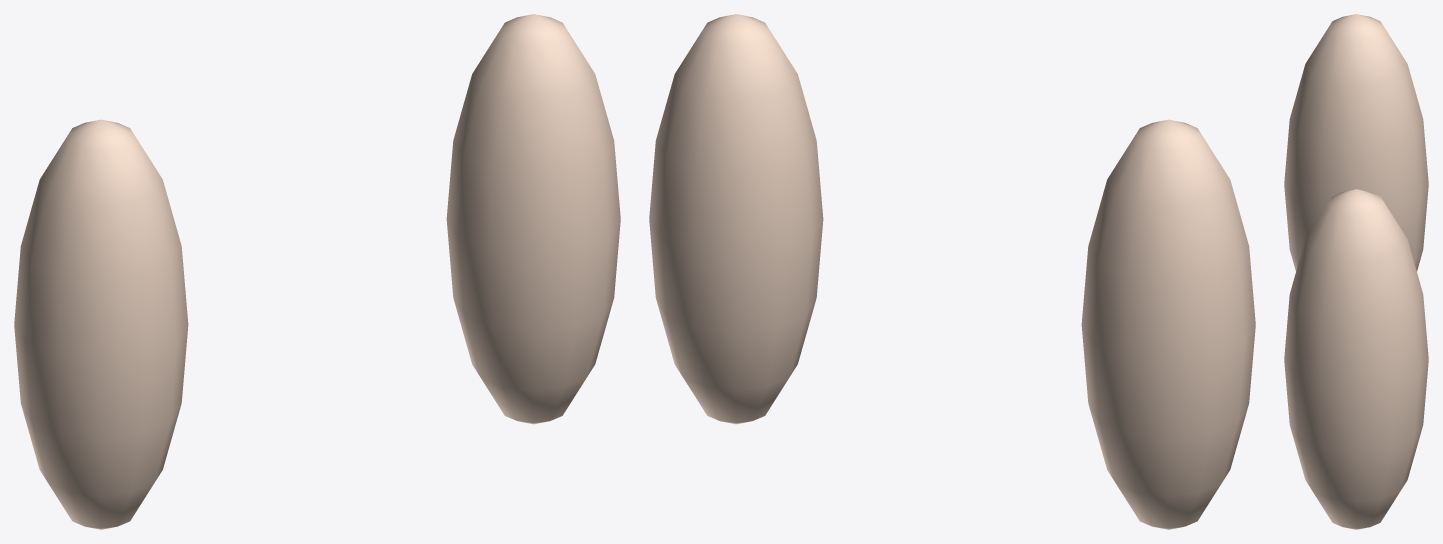
Rendered from arms-chibi-02.glb.
3 views of the same model, side by side, from view 1: azimuth 30°, elevation 25°; view 2: azimuth 150°, elevation 25°; view 3: azimuth 270°, elevation 25° (orthographic). The views are drawn at different scales.
Visible parts, largest first — view 1: part_0, part_1; view 2: part_0, part_1; view 3: part_1, part_0.
Boxes of the visible parts, x1=… form: part_0: x1=14, y1=119, x2=188, y2=529; part_1: x1=446, y1=14, x2=620, y2=424; part_0: x1=1081, y1=119, x2=1255, y2=529; part_1: x1=649, y1=14, x2=823, y2=424; part_1: x1=1284, y1=189, x2=1428, y2=529; part_0: x1=1284, y1=14, x2=1428, y2=271.
Bounding box in the file's own units: 1.16 × 0.78 × 0.3.
